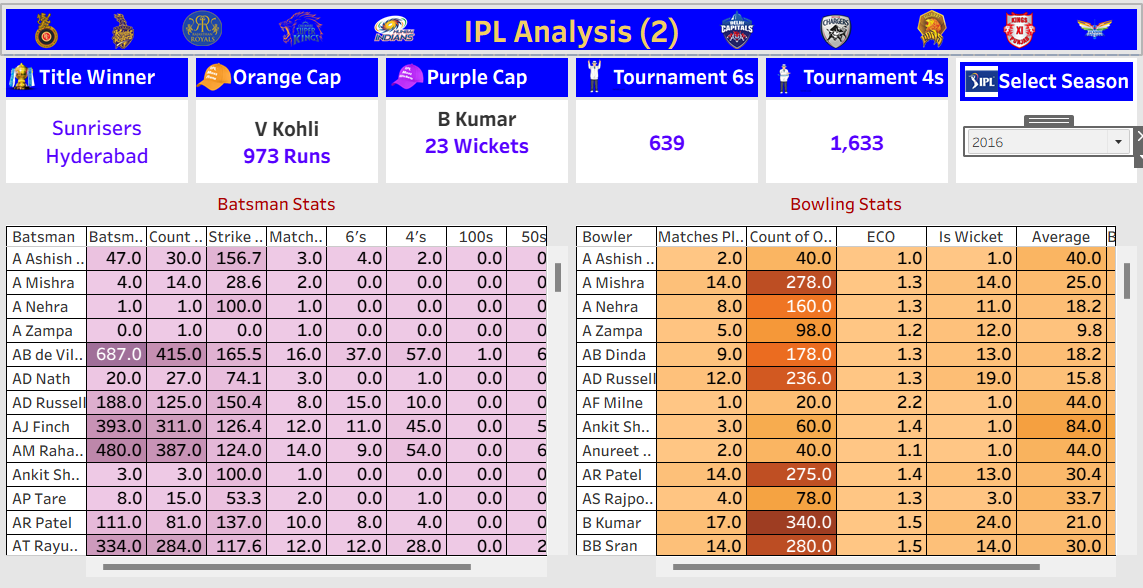

What the dashboard file says about the page in this screenshot:
{"tool":"tableau","page":{"name":"IPL Analysis (2)","canvas":[1155,592],"ordinal":1},"visuals":[{"type":"title","box":[8,8,1139,49]},{"type":"image","param":"D:/PROJECTS/Tableau/IPL_analysis/Images-20250721T152515Z-1-001/Images/MI.png","box":[374,9,52,44]},{"type":"image","param":"D:/PROJECTS/Tableau/IPL_analysis/Images-20250721T152515Z-1-001/Images/Chennai-Su","box":[283,10,47,45]},{"type":"image","param":"D:/PROJECTS/Tableau/IPL_analysis/Images-20250721T152515Z-1-001/Images/Gujarat-Li","box":[912,11,50,40]},{"type":"image","param":"D:/PROJECTS/Tableau/IPL_analysis/Images-20250721T152515Z-1-001/Images/Lucknow_su","box":[1073,11,53,44]},{"type":"image","param":"D:/PROJECTS/Tableau/IPL_analysis/Images-20250721T152515Z-1-001/Images/dc.png","box":[720,12,47,40]},{"type":"image","param":"D:/PROJECTS/Tableau/IPL_analysis/Images-20250721T152515Z-1-001/Images/084a80c1fe","box":[29,13,46,39]},{"type":"image","param":"D:/PROJECTS/Tableau/IPL_analysis/Images-20250721T152515Z-1-001/Images/1200px-Raj","box":[185,13,46,36]},{"type":"image","param":"D:/PROJECTS/Tableau/IPL_analysis/Images-20250721T152515Z-1-001/Images/Deccan-Cha","box":[817,13,49,40]},{"type":"image","param":"D:/PROJECTS/Tableau/IPL_analysis/Images-20250721T152515Z-1-001/Images/Kings_XI_P","box":[1003,13,44,39]},{"type":"image","param":"D:/PROJECTS/Tableau/IPL_analysis/Images-20250721T152515Z-1-001/Images/1200px-Kol","box":[105,15,47,37]},{"type":"image","param":"D:/PROJECTS/Tableau/IPL_analysis/Images-20250721T152515Z-1-001/Images/FOUR-4-Cri","box":[758,54,63,55]},{"type":"worksheet","title":"Title Winner","mark":"Automatic","box":[8,57,190,129]},{"type":"worksheet","title":"Orange Cap","mark":"Automatic","box":[198,57,190,129]},{"type":"worksheet","title":"Purple Cap","mark":"Automatic","box":[388,57,190,129]},{"type":"image","param":"D:/PROJECTS/Tableau/IPL_analysis/Images-20250721T152515Z-1-001/Images/SIX-6-Cric","box":[565,57,70,44]},{"type":"worksheet","title":"Tournament 6s","mark":"Automatic","box":[578,57,190,129]},{"type":"worksheet","title":"Tournament 4s","mark":"Automatic","box":[768,57,190,129]},{"type":"worksheet","title":"Select Season","mark":"Automatic","box":[958,57,189,129]},{"type":"image","param":"D:/PROJECTS/Tableau/IPL_analysis/Images-20250721T152515Z-1-001/Images/01e0f6e935","box":[195,61,50,38]},{"type":"image","param":"D:/PROJECTS/Tableau/IPL_analysis/Images-20250721T152515Z-1-001/Images/6d33194b60","box":[396,61,35,37]},{"type":"image","param":"D:/PROJECTS/Tableau/IPL_analysis/Images-20250721T152515Z-1-001/Images/1200800-20","box":[971,69,33,31]},{"type":"filter","title":"Bowling Stats","param":"[federated.1g1pmh00qfzfb01c05e1r1pxwug9].[yr:date:ok]","box":[971,131,168,27]},{"type":"worksheet","title":"Batsman Stats","mark":"Square","rows":["batsman"],"box":[8,186,570,398]},{"type":"worksheet","title":"Bowling Stats","mark":"Square","rows":["bowler"],"box":[578,186,569,398]}]}

Visuals, with their boxes in screenshot pixels (x1, y1, x2, y2), scaled from the page's 1155x592 canvas onto the 1143x588 screenshot:
title: [8,8,1135,57]
image: [370,9,422,53]
image: [280,10,327,55]
image: [903,11,952,51]
image: [1062,11,1114,55]
image: [713,12,759,52]
image: [29,13,74,52]
image: [183,13,229,49]
image: [809,13,857,53]
image: [993,13,1036,52]
image: [104,15,150,52]
image: [750,54,812,108]
"Title Winner" worksheet: [8,57,196,185]
"Orange Cap" worksheet: [196,57,384,185]
"Purple Cap" worksheet: [384,57,572,185]
image: [559,57,628,100]
"Tournament 6s" worksheet: [572,57,760,185]
"Tournament 4s" worksheet: [760,57,948,185]
"Select Season" worksheet: [948,57,1135,185]
image: [193,61,242,98]
image: [392,61,427,97]
image: [961,69,994,99]
"Bowling Stats" filter: [961,130,1127,157]
"Batsman Stats" worksheet (Square marks): [8,185,572,580]
"Bowling Stats" worksheet (Square marks): [572,185,1135,580]
